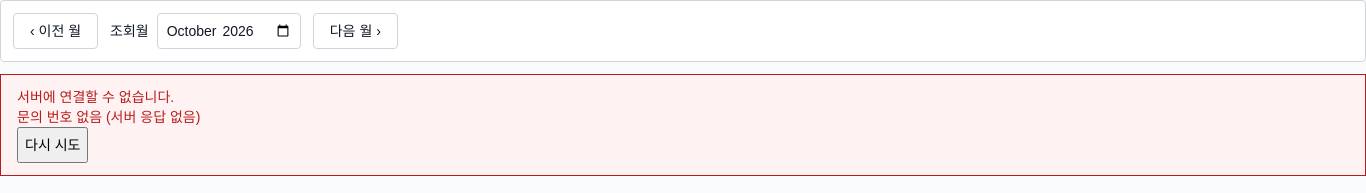
Test: period contract › failed month read retains chosen period and does not infer OPEN until retry succeeds
The image size is (1366, 193).
Check: the message shows "서버 응답 없음", box x1=17 y1=109 x2=200 y2=125
Check: the text "작업중" is not shown
Click the button "다시 시도" at (53, 145), box x1=17 y1=127 x2=88 y2=163
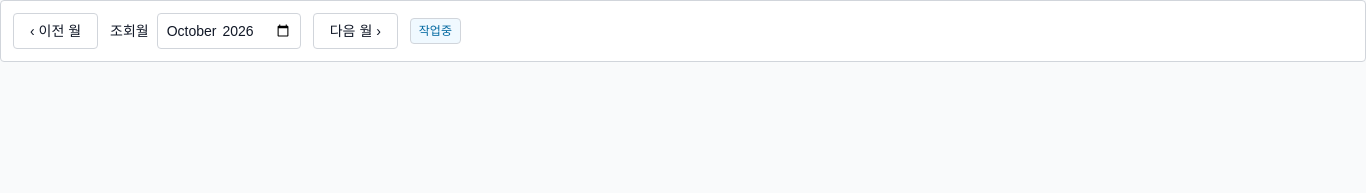
Check: the field labelled "조회월" holds "2026-10", box x1=157 y1=13 x2=301 y2=49
Check: the message "서버에 연결할 수 없습니다. 문의 번호 없음 (서버 응답 없음) 다시 시도" is gone
Check: the text "작업중" is shown, box x1=410 y1=18 x2=461 y2=44
